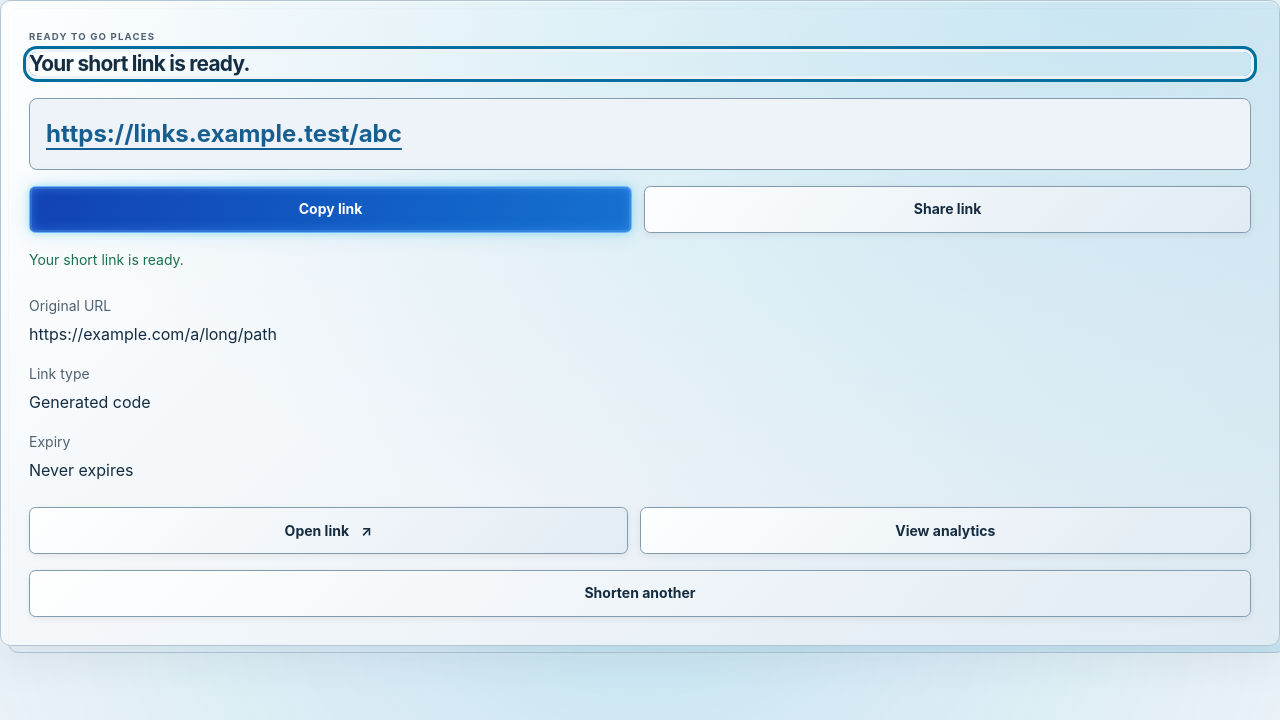
Test: CreationResult_shareFailure_keepsResultAvailable (AbortError)
The image size is (1280, 720).
Click the button "Share link" at (948, 210), box [644,186,1251,233]
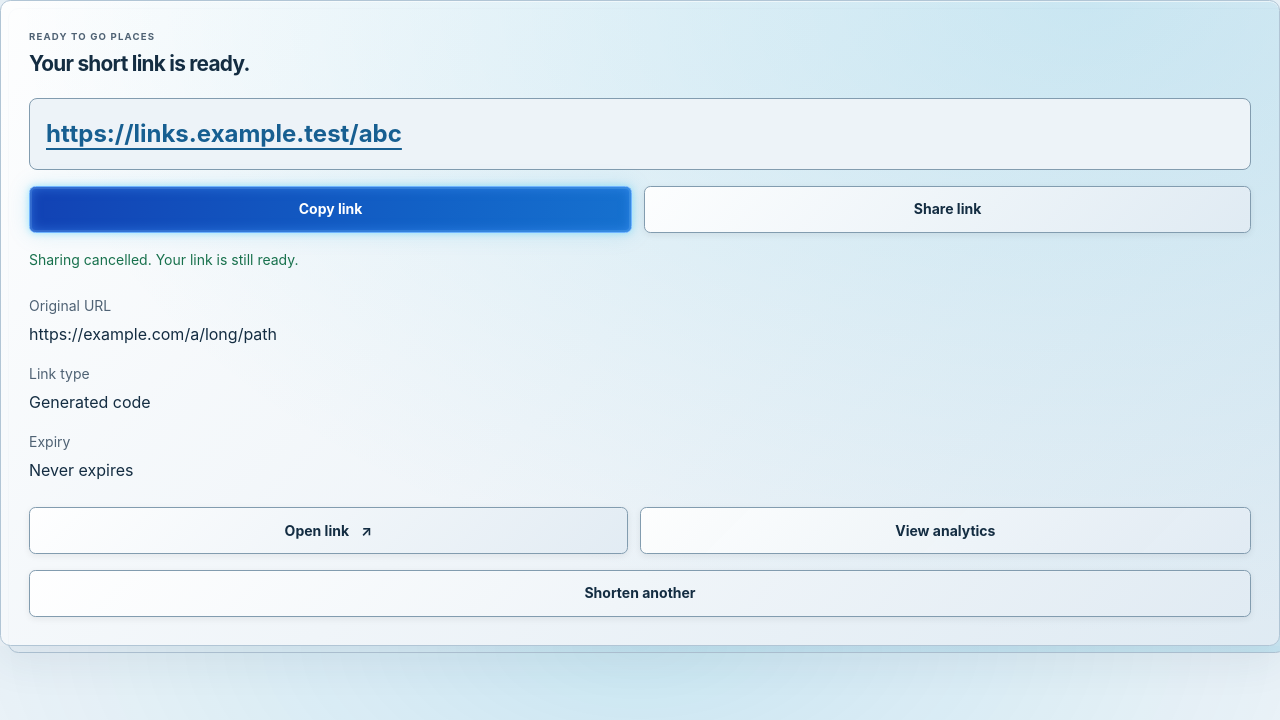
Expected: the link "https://links.example.test/abc" is shown, [29,98,1251,170]
Now the message shows "Sharing cancelled", box [29,251,298,268]
